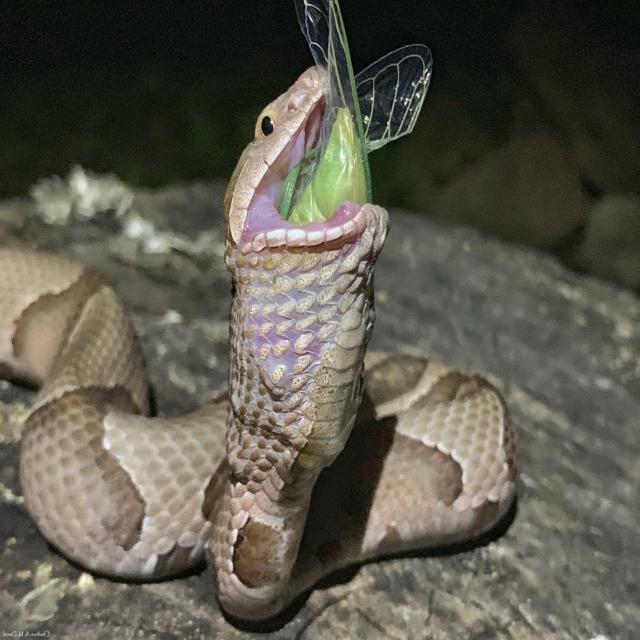snake: (0, 68, 518, 626)
